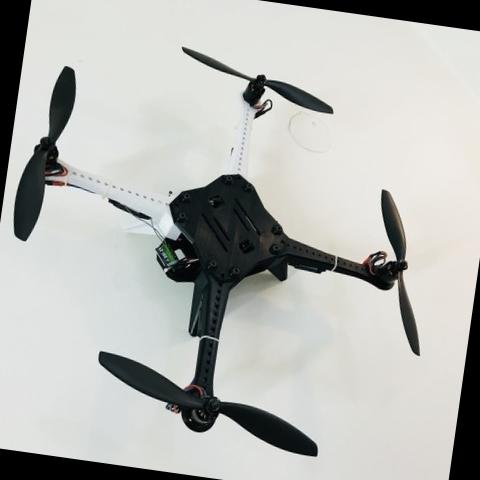drone: (0, 42, 446, 480)
